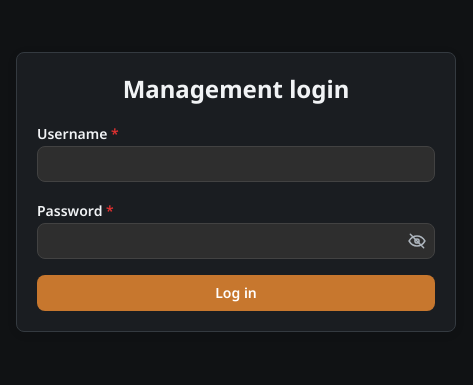
Test: AdminScreen › shows invalid login errors
In the field labelled "Username": [236, 164] box [37,146,435,182], type "admin"
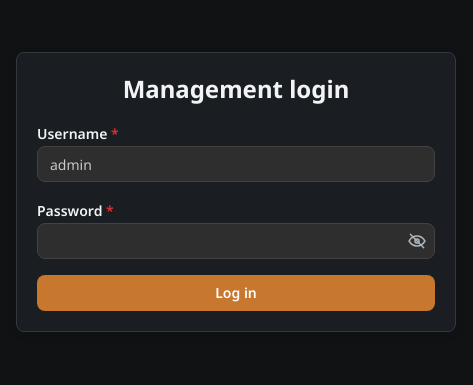
In the password field labelled "Password": [236, 241] box [37,223,435,259], type "wrong-pass"
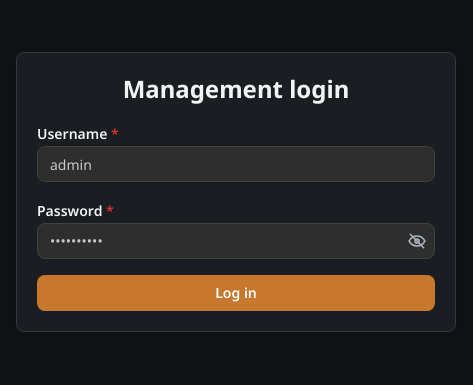
Click the button "Log in": [236, 293] box [37,275,435,311]
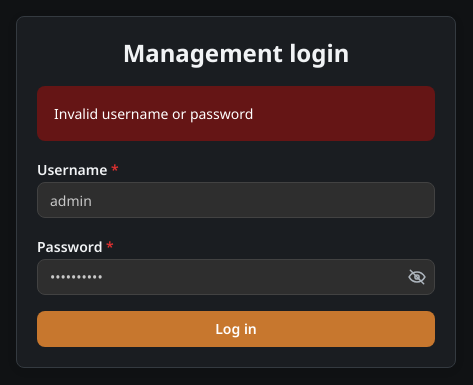
Expected: the message reads "Invalid username or password", [54,104,253,122]
